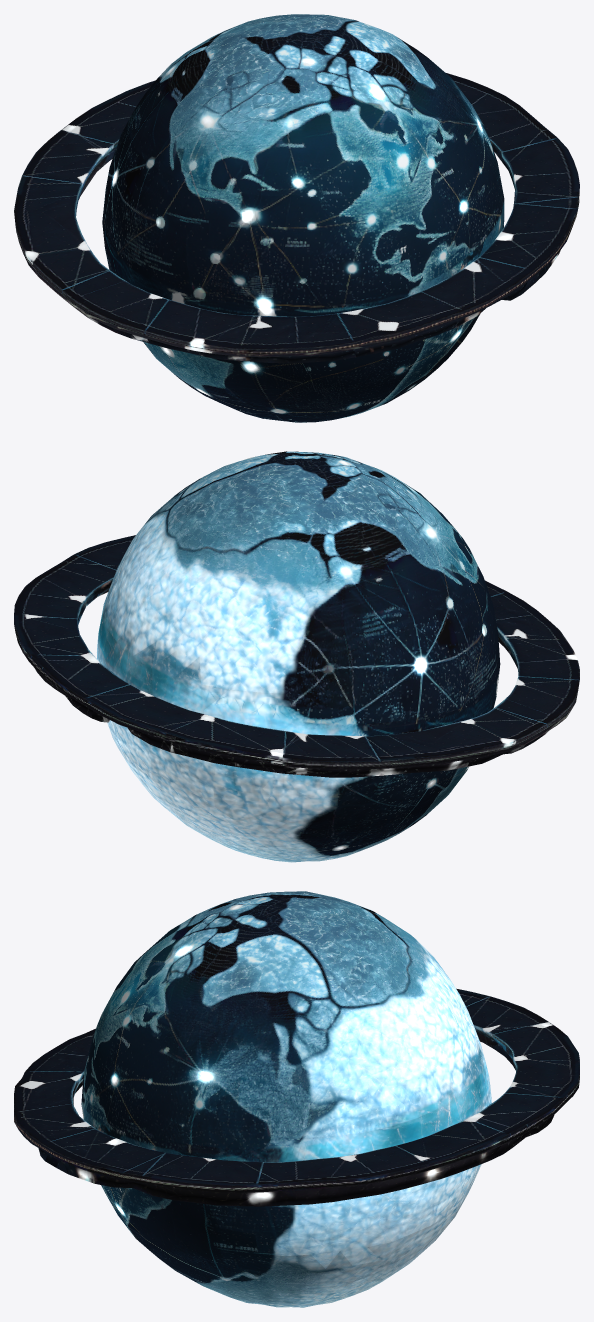
Rendered from Meshy_AI_model.glb.
3 views of the same model, one above another, from view 1: azimuth 30°, elevation 25°; view 2: azimuth 150°, elevation 25°; view 3: azimuth 270°, elevation 25° (orthographic).
Visible parts, largest first — view 1: mesh_node; view 2: mesh_node; view 3: mesh_node.
Part boxes in pixels (x1,y1,x2,y2): mesh_node: (14,14,579,422); mesh_node: (14,451,579,862); mesh_node: (14,891,579,1307).
Size of the model in its own units: 1 by 0.7402 by 1.
1 material, 1 textured.
